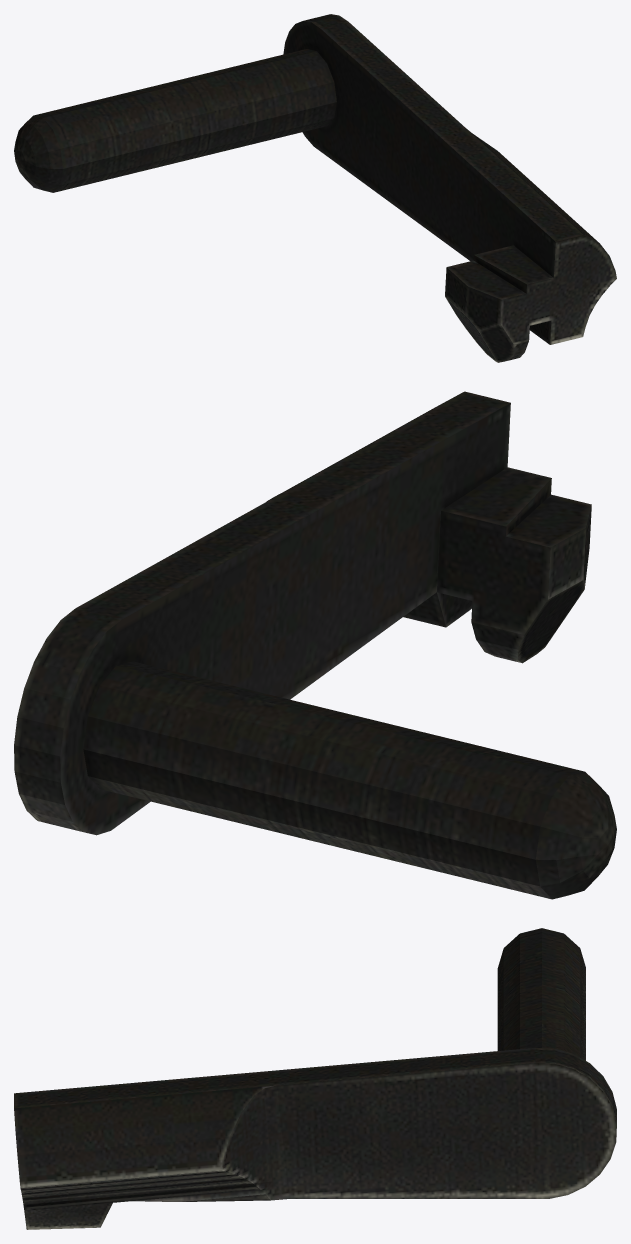
3 renders of one model, top to bottom at view 1: azimuth 30°, elevation 25°; view 2: azimuth 150°, elevation 25°; view 3: azimuth 270°, elevation 25°, orthographic. The views are drawn at different scales.
Parts seen in each view (by area): view 1: TW_5e81c539cb2b95385c177553_PZ_Import; view 2: TW_5e81c539cb2b95385c177553_PZ_Import; view 3: TW_5e81c539cb2b95385c177553_PZ_Import.
Boxes of the visible parts, x1=… form: TW_5e81c539cb2b95385c177553_PZ_Import: x1=14, y1=14, x2=616, y2=362; TW_5e81c539cb2b95385c177553_PZ_Import: x1=14, y1=391, x2=616, y2=899; TW_5e81c539cb2b95385c177553_PZ_Import: x1=14, y1=928, x2=616, y2=1229.
Size of the model in its own units: 0.0155 by 0.0202 by 0.00685.
1 material, 1 textured.
